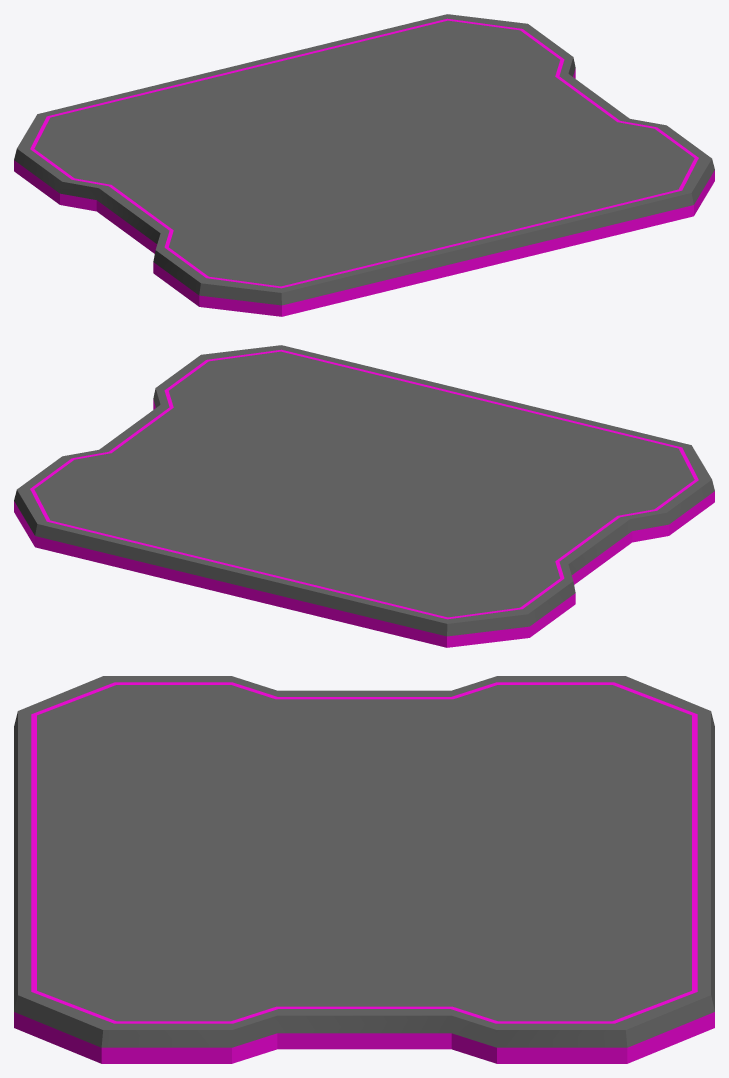
File: Lift_Floor.fbx
The picture shows the model from 3 angles, top to bottom: view 1: azimuth 30°, elevation 25°; view 2: azimuth 150°, elevation 25°; view 3: azimuth 270°, elevation 25°; orthographic projection. The views are drawn at different scales.
Parts seen in each view (by area): view 1: Lift_Floor; view 2: Lift_Floor; view 3: Lift_Floor.
Boxes of the visible parts, box(x1,y1,x2,y2) form: Lift_Floor: box(14, 14, 714, 316); Lift_Floor: box(14, 345, 714, 647); Lift_Floor: box(14, 676, 714, 1063).
Size of the model in its own units: 19.96 by 0.8393 by 16.55.
